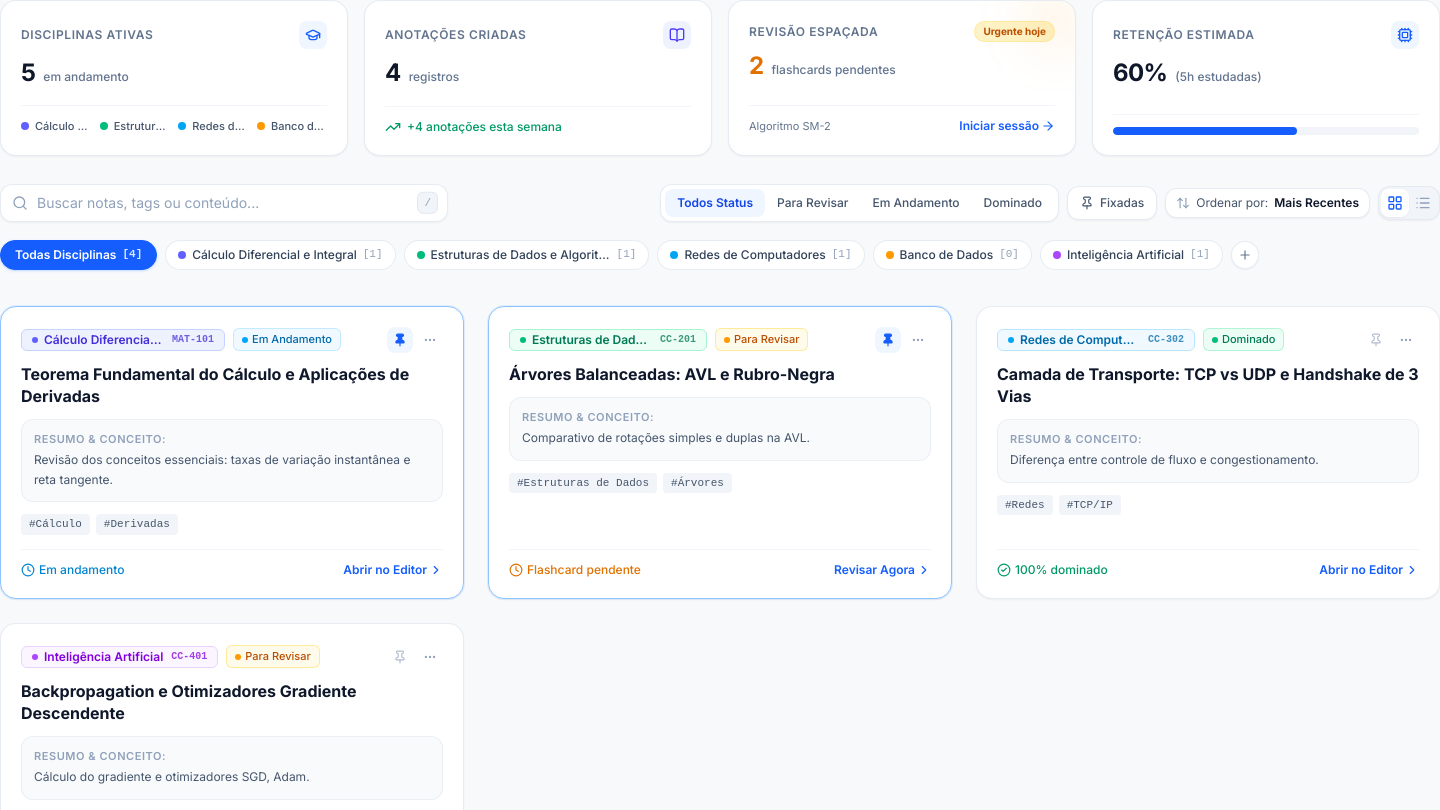
it: AcademicView › suporta o Modo Zen ocultando a barra lateral do estúdio e restaurando com Escape
The width and height of the screenshot is (1440, 810).
# Switch to Studio mode
Click the heading "Árvores Balanceadas: AVL e Rubro-Negra" at [672, 374], box [509,364,835,384]
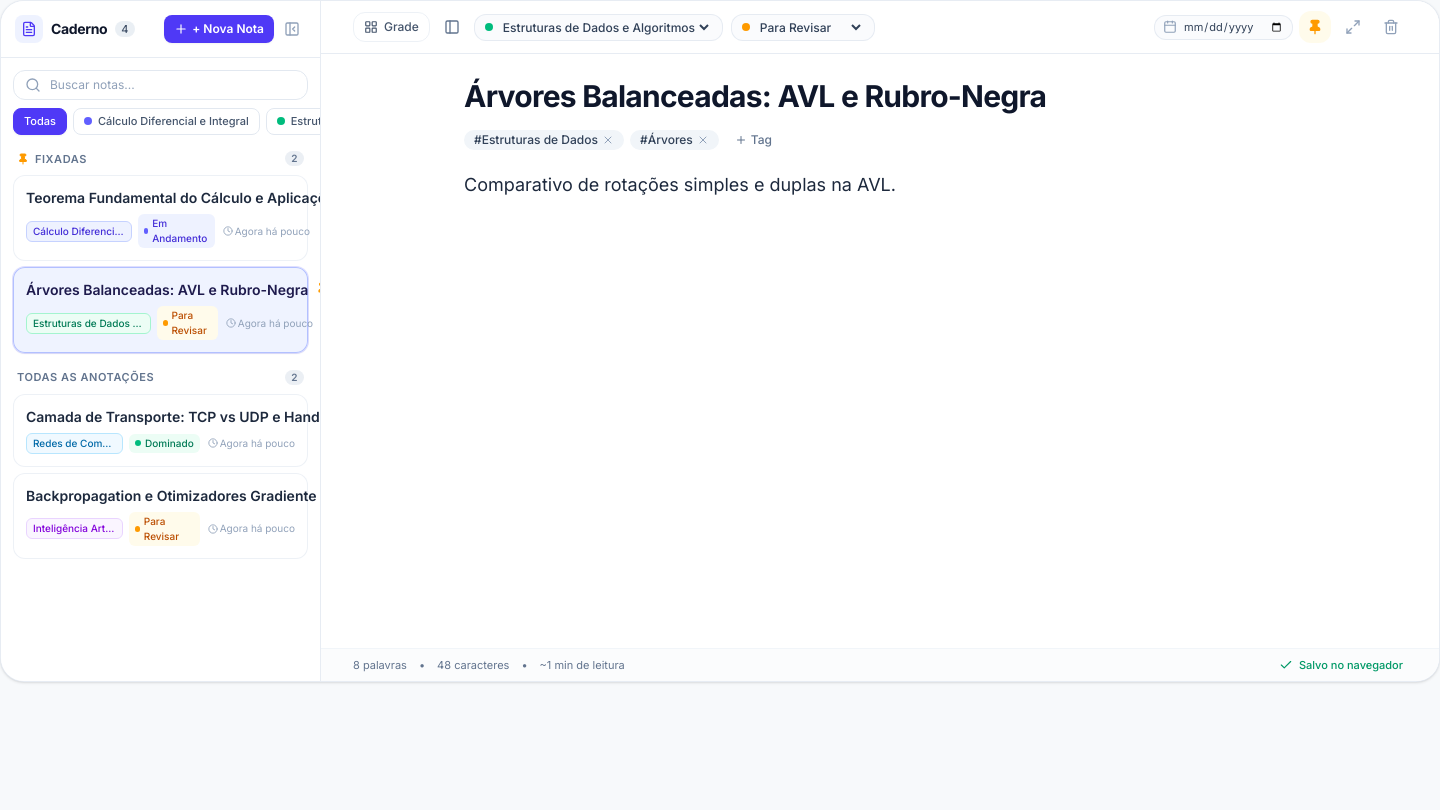
Check: the heading "Caderno" is shown, box [51,19,107,39]
# Enter Zen Mode
Click the button named "Modo Zen" at [1353, 27], box [1337,11,1369,43]
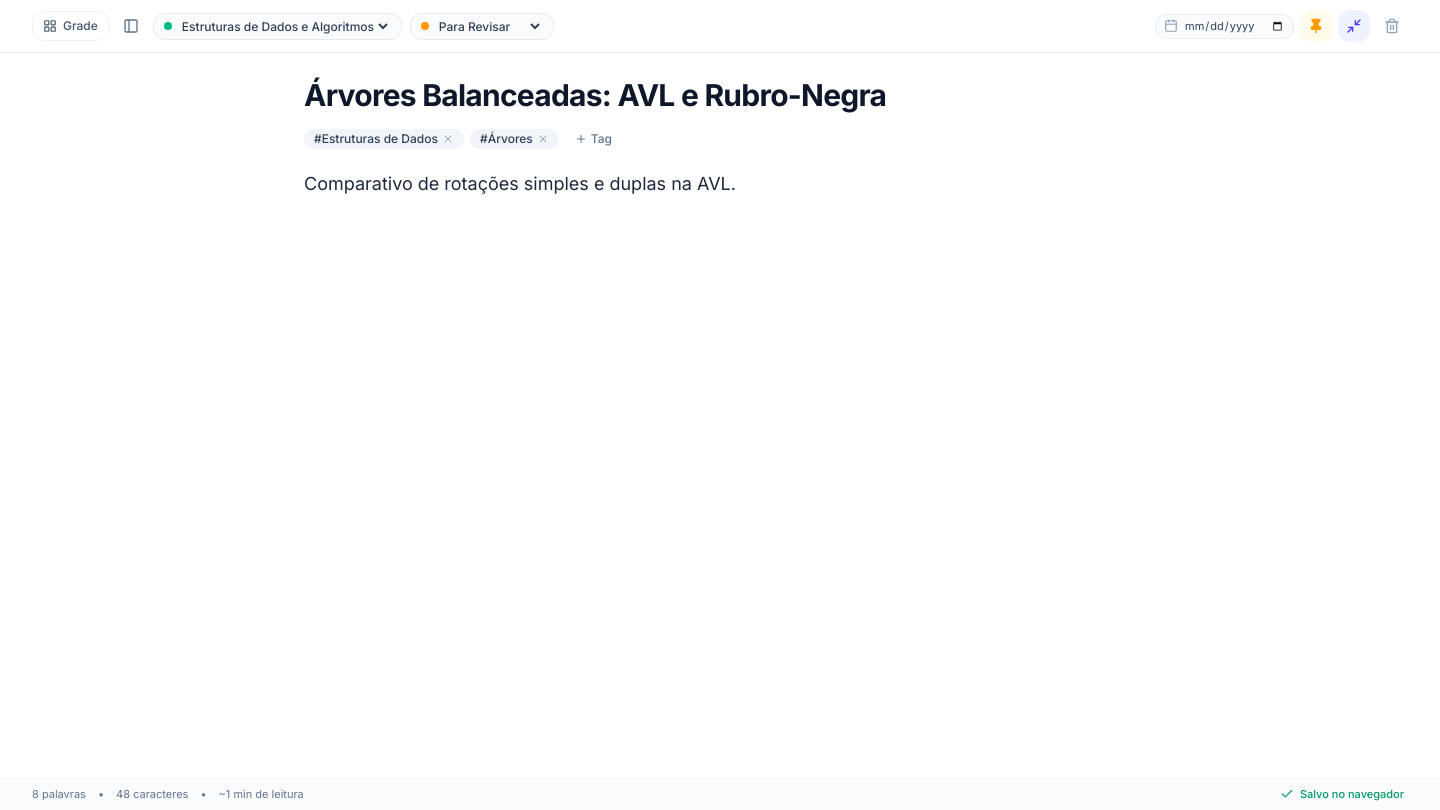
Check: the heading "Caderno" is gone
# Exit Zen Mode with Escape
Press Escape
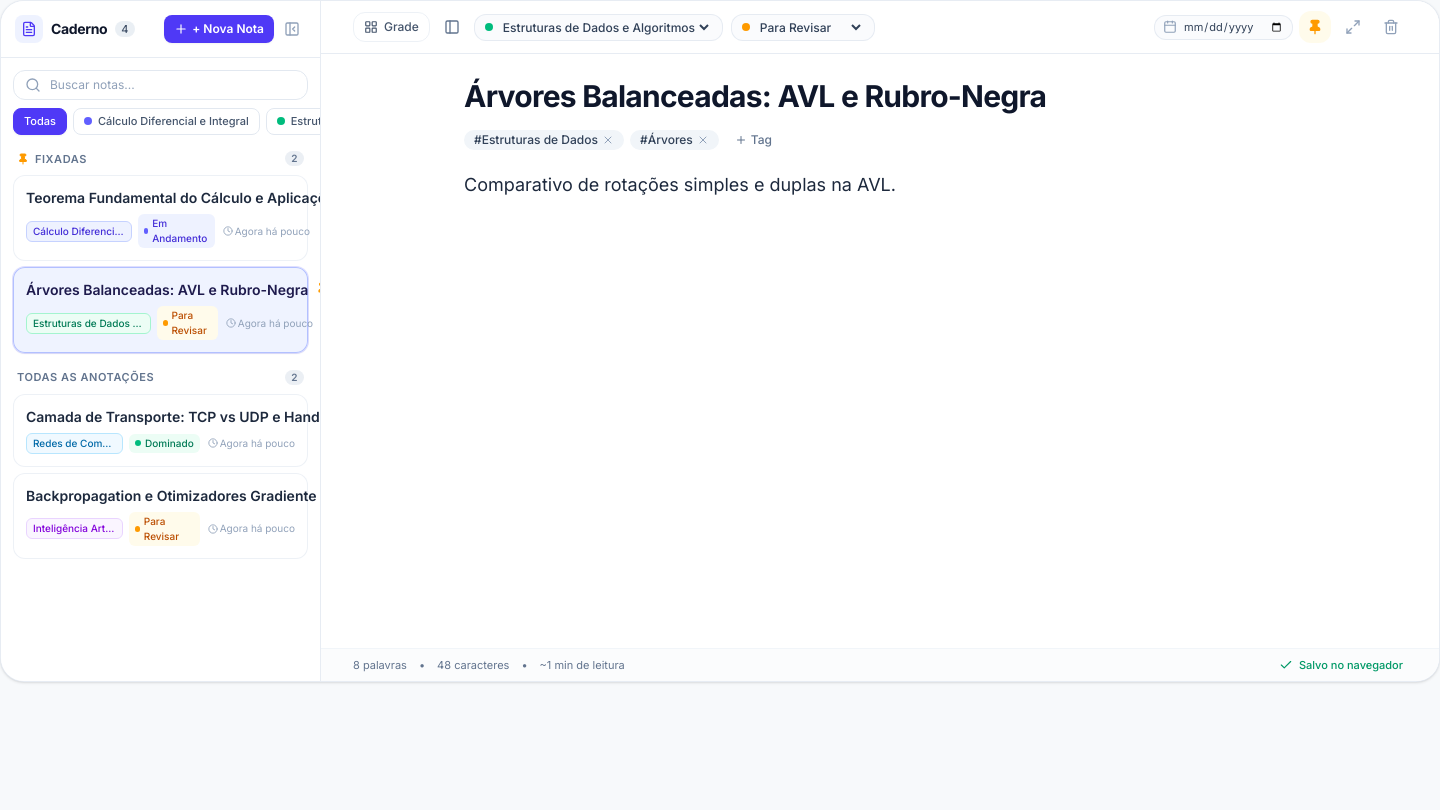
Check: the heading "Caderno" is shown, box [51,19,107,39]
